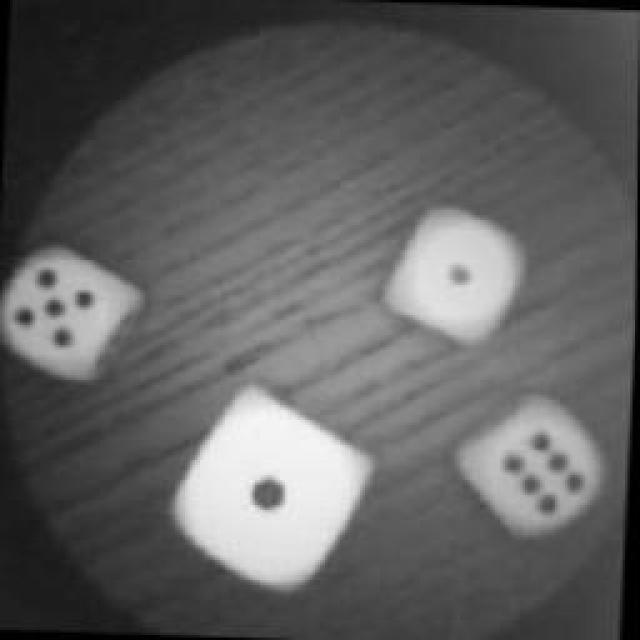dice_1: (168, 382, 378, 602), (385, 202, 530, 348)
dice_5: (0, 238, 138, 388)
dice_6: (455, 399, 610, 551)
